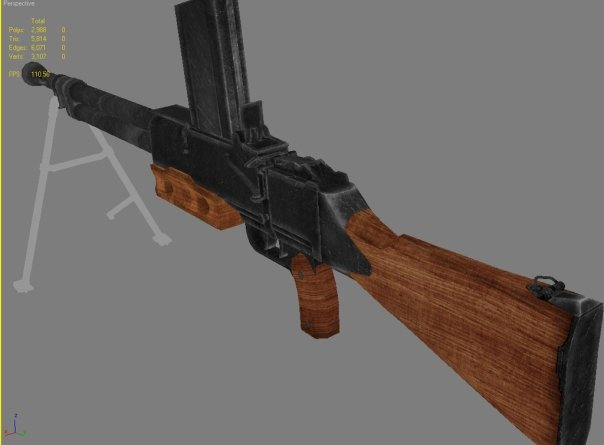rifle: (22, 29, 586, 433)
